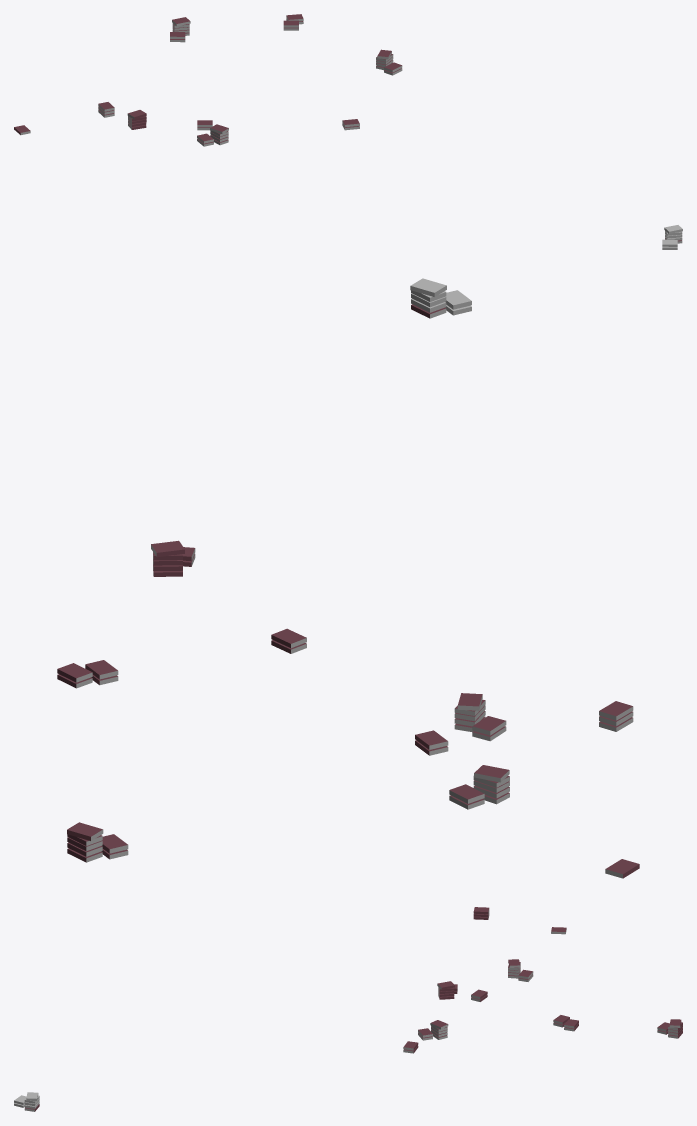
Rendered from book.fbx.
The picture shows the model from 3 angles, top to bottom: view 1: azimuth 30°, elevation 25°; view 2: azimuth 150°, elevation 25°; view 3: azimuth 270°, elevation 25°; orthographic projection. The views are drawn at different scales.
Bounding box in the file's own units: 9.99 × 1.25 × 15.52.
